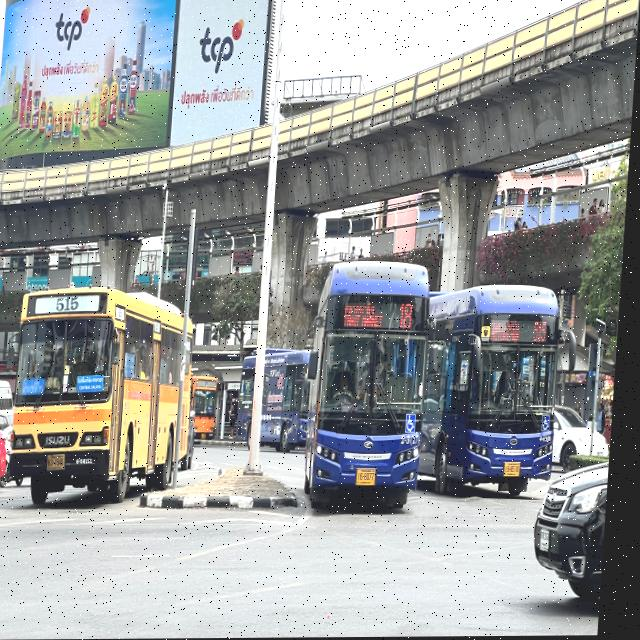BMTA-bus: (8, 287, 207, 507), (192, 373, 228, 443)
Bus-Line-Number: (54, 291, 88, 315), (399, 298, 421, 333), (536, 320, 554, 345), (209, 379, 215, 389)
Destination-Sign-Normal: (347, 295, 390, 332), (493, 318, 528, 346), (82, 374, 110, 393), (212, 406, 219, 413)
TSB-Bus: (311, 261, 438, 513), (423, 285, 568, 499), (242, 349, 324, 454)
